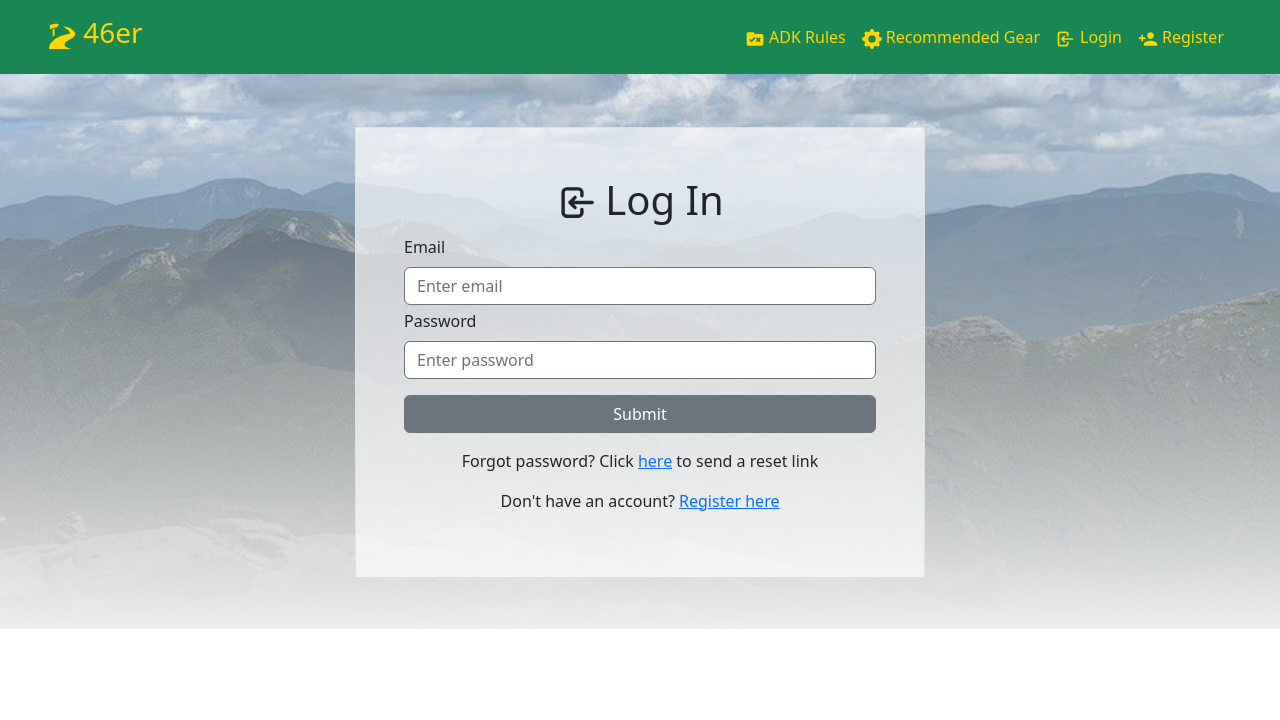
Scenario: Login page testing › should log in if details are provided and button is clicked
Step 1. Type "test@work.com" into the field labelled "Email" → (640, 286), box [404,267,876,305]
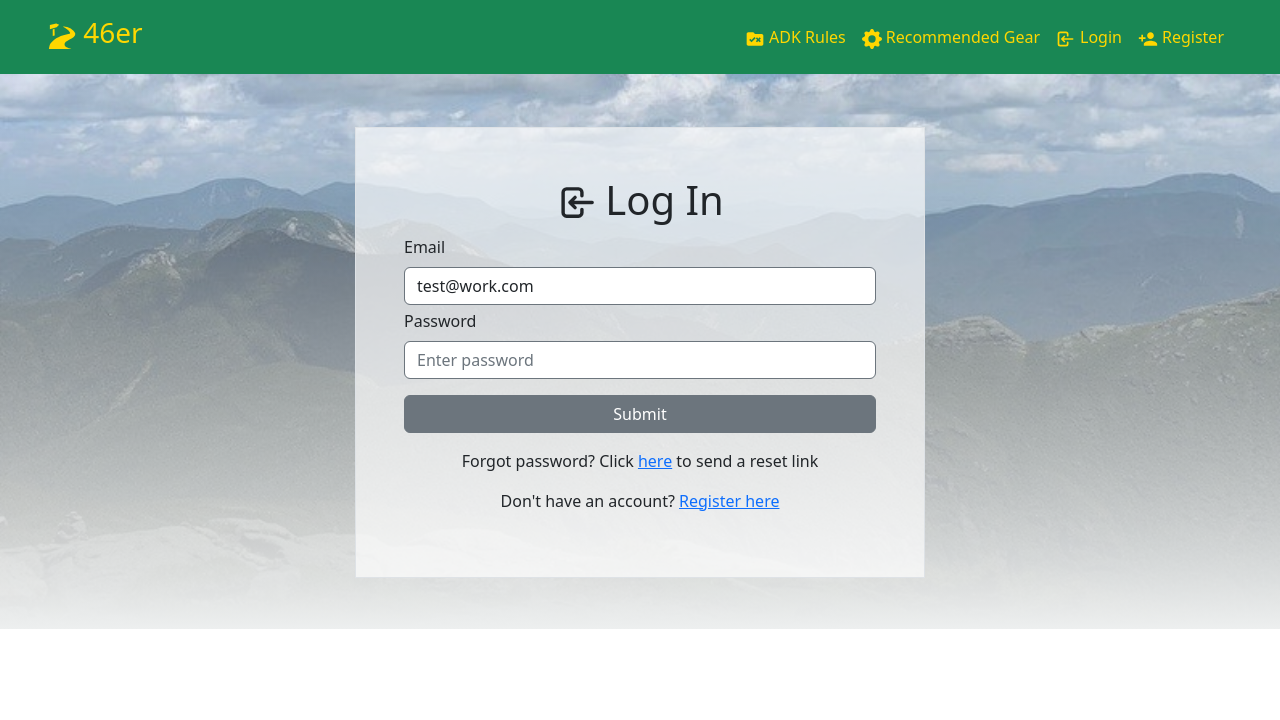
Step 2. Type "test1234" into the password field labelled "Password" → (640, 360), box [404,341,876,379]
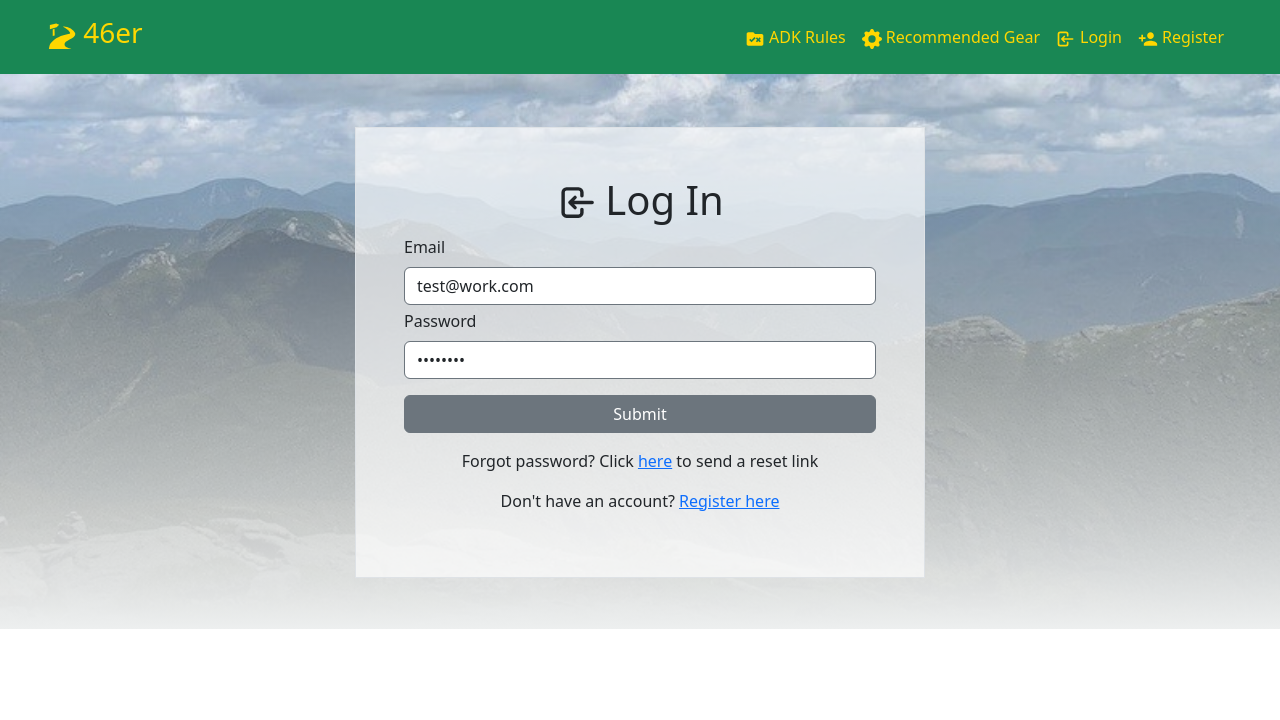
Step 3. Click the button "Submit" → (640, 414), box [404,395,876,433]
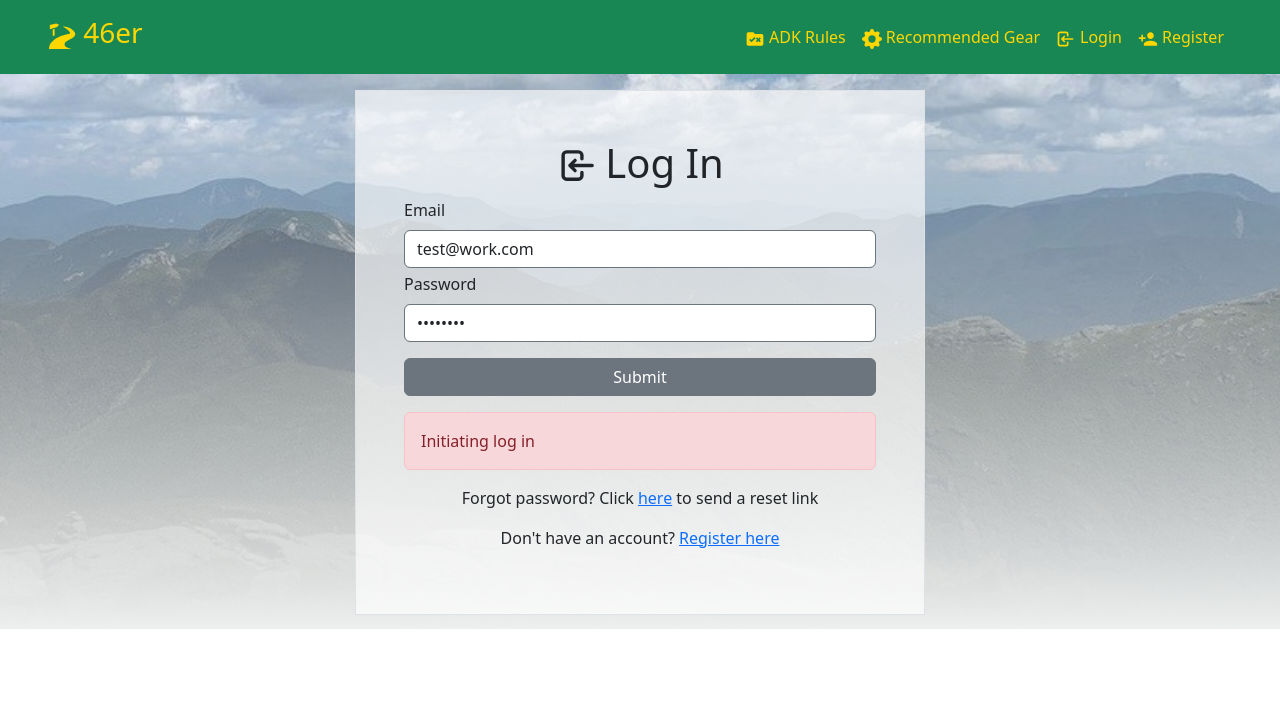
expect the text "Initiating log in" is shown: met, box [404,412,876,470]
